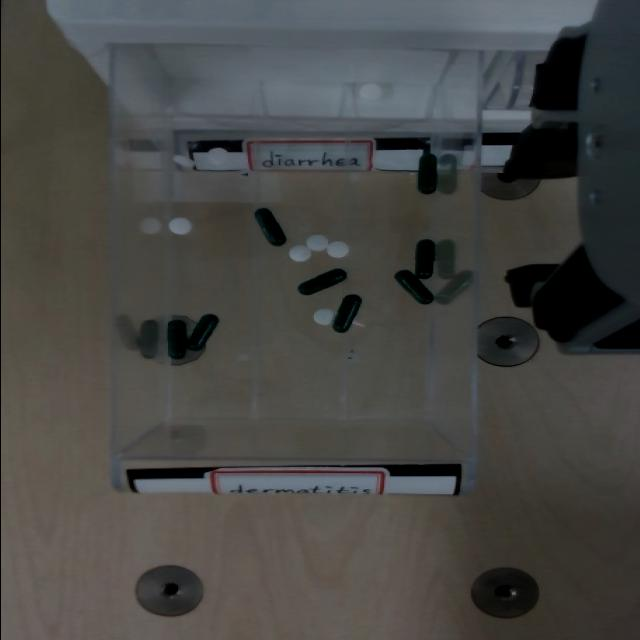ganakan_tab: (302, 234, 327, 253), (323, 241, 348, 260), (309, 308, 333, 327), (205, 147, 229, 165), (285, 246, 310, 263), (167, 217, 191, 234), (172, 155, 196, 168)
monodoxy_cap: (296, 268, 346, 296), (392, 270, 432, 305), (251, 208, 284, 247), (393, 271, 432, 304), (329, 294, 361, 334), (296, 270, 345, 295), (253, 209, 285, 247), (186, 314, 217, 352), (331, 296, 359, 333), (188, 315, 216, 351), (411, 239, 434, 280), (414, 154, 437, 194), (164, 320, 186, 360), (166, 320, 187, 360), (415, 154, 435, 194), (414, 240, 434, 279)
